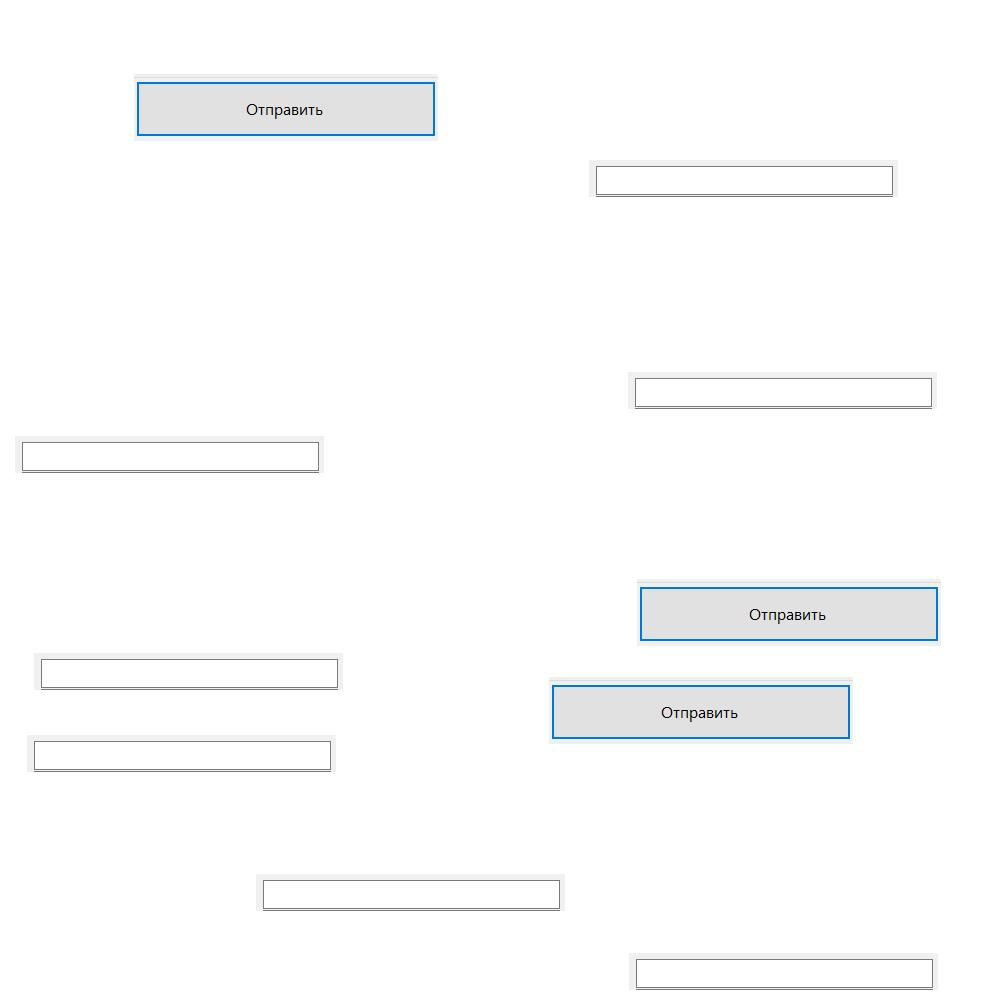Button: (637, 579, 941, 646), (134, 74, 438, 141), (549, 677, 853, 744)
EditText-: (589, 160, 898, 197), (15, 436, 324, 473), (34, 653, 343, 690), (629, 953, 938, 990), (256, 874, 565, 911), (628, 372, 937, 409), (27, 735, 336, 772)
